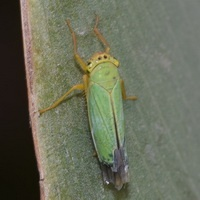insect: (38, 15, 136, 189)
